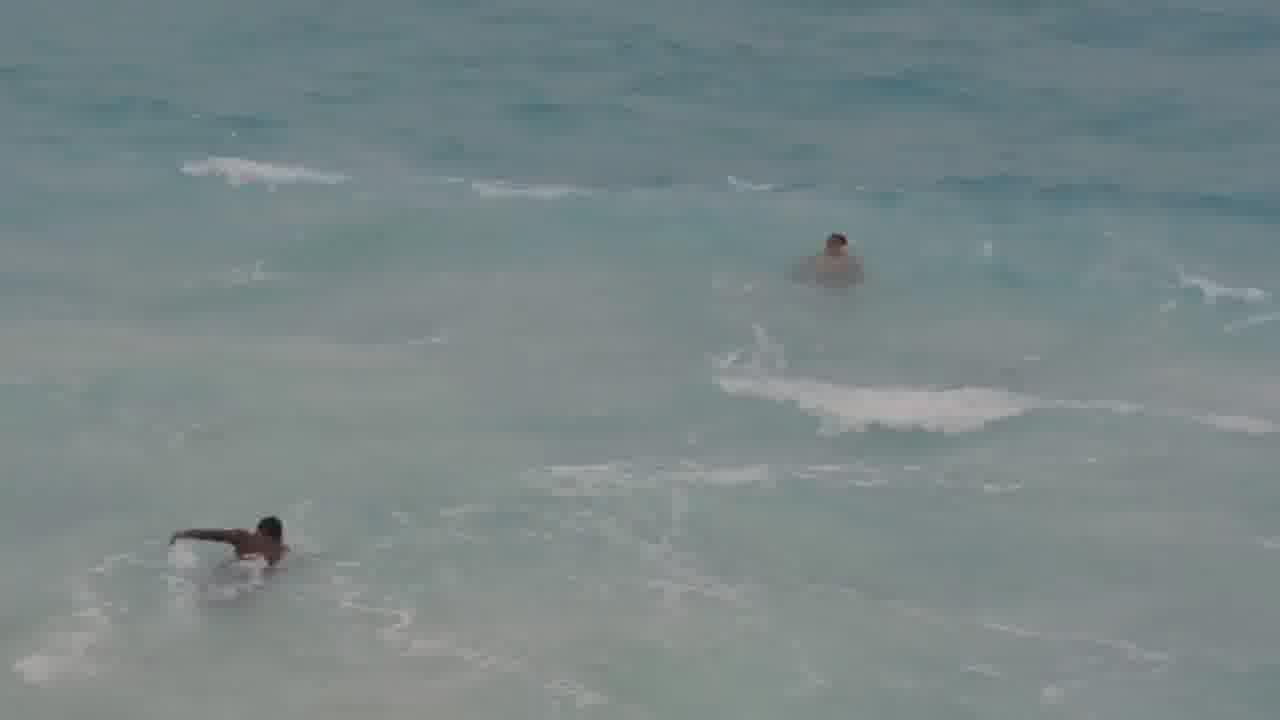human: (235, 499, 300, 577), (801, 223, 865, 283)
